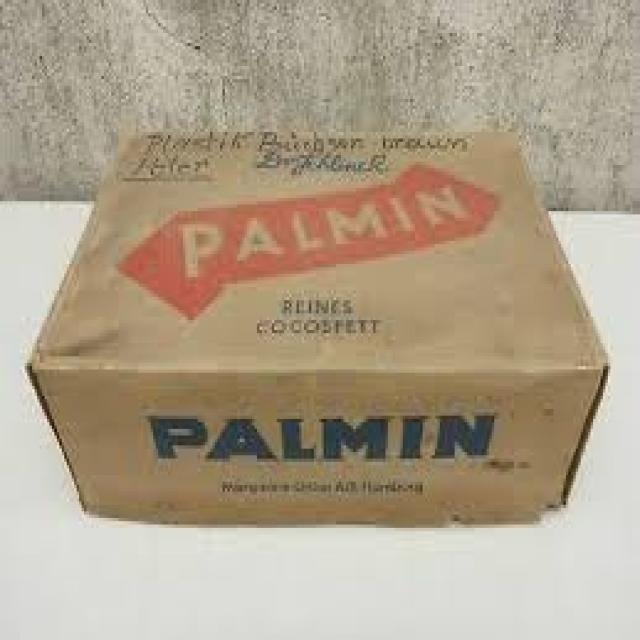Cardboard: (27, 135, 606, 527)
